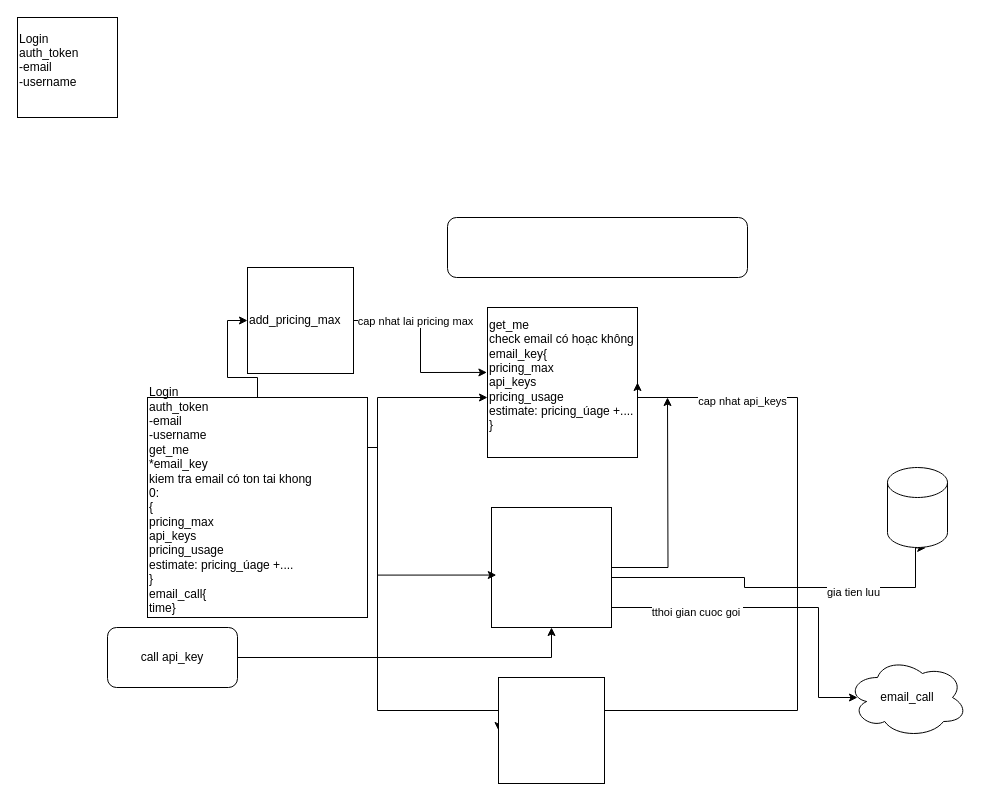
The diagram is 985 pixels wide and 801 high, and some of its shapes have lost their labels. Each missing label, with the centre of its shape:
create api key api_key{ email }: the point at 551,567
delete_api_key: the point at 551,730
Redis: the point at 597,247
